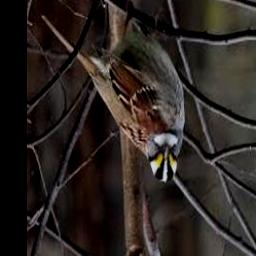Sparrow: (41, 11, 185, 183)
